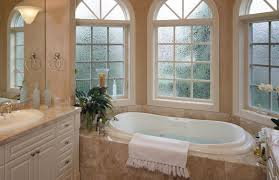bathub: (108, 107, 257, 180)
